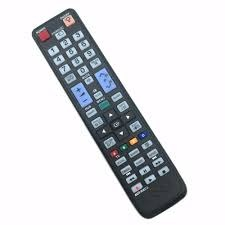remote control: (24, 7, 193, 221)
